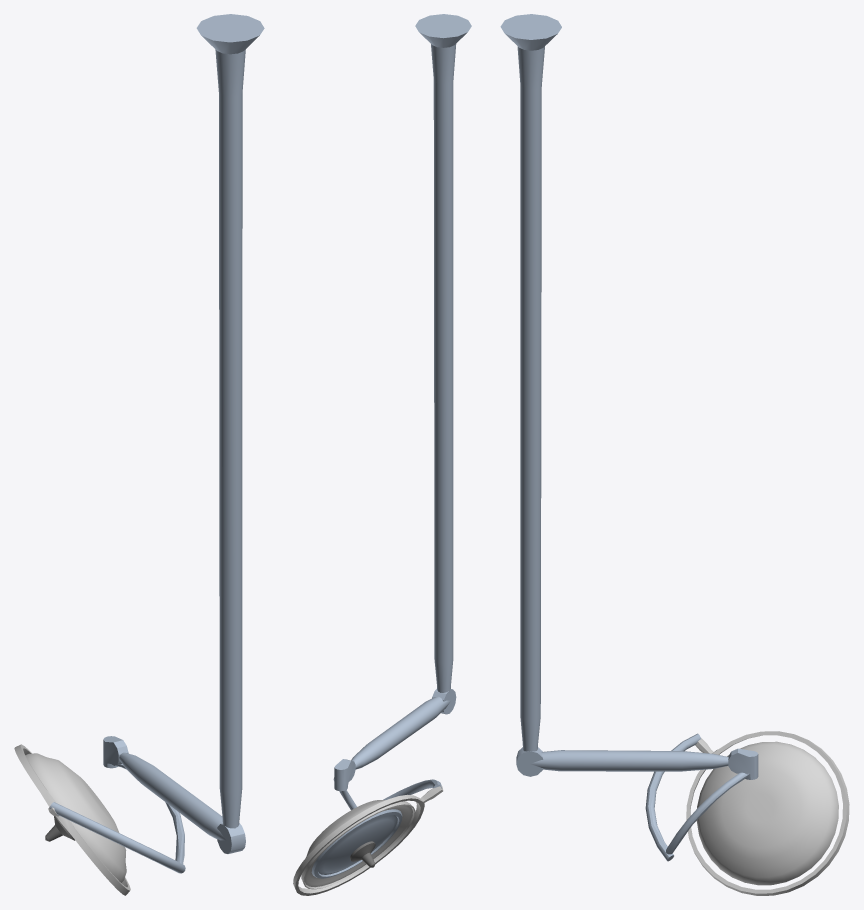
File: op_lamp.fbx
3 renders of one model, left to right at view 1: azimuth 30°, elevation 25°; view 2: azimuth 150°, elevation 25°; view 3: azimuth 270°, elevation 25°, orthographic. The views are drawn at different scales.
Visible parts, largest first — view 1: Sphere; view 2: Sphere; view 3: Sphere.
Boxes of the visible parts, left/top/right/bottom form: Sphere: left=14, top=14, right=264, bottom=895; Sphere: left=293, top=14, right=471, bottom=895; Sphere: left=500, top=14, right=849, bottom=895.
Bounding box in the file's own units: 2.6 × 18.48 × 6.78.
